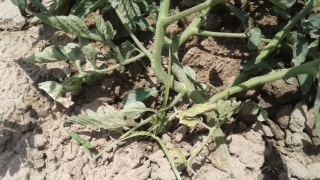tomato diseased leaf: (35, 79, 79, 108), (81, 39, 117, 66)
tomato plant: (91, 100, 232, 169), (241, 2, 319, 74)
